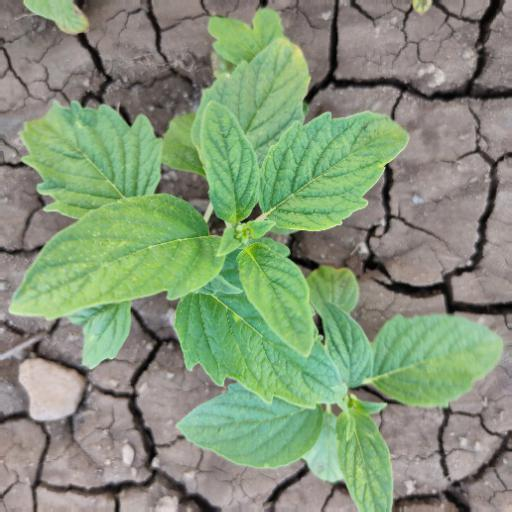crop: (21, 58, 435, 355), (154, 293, 512, 500)
